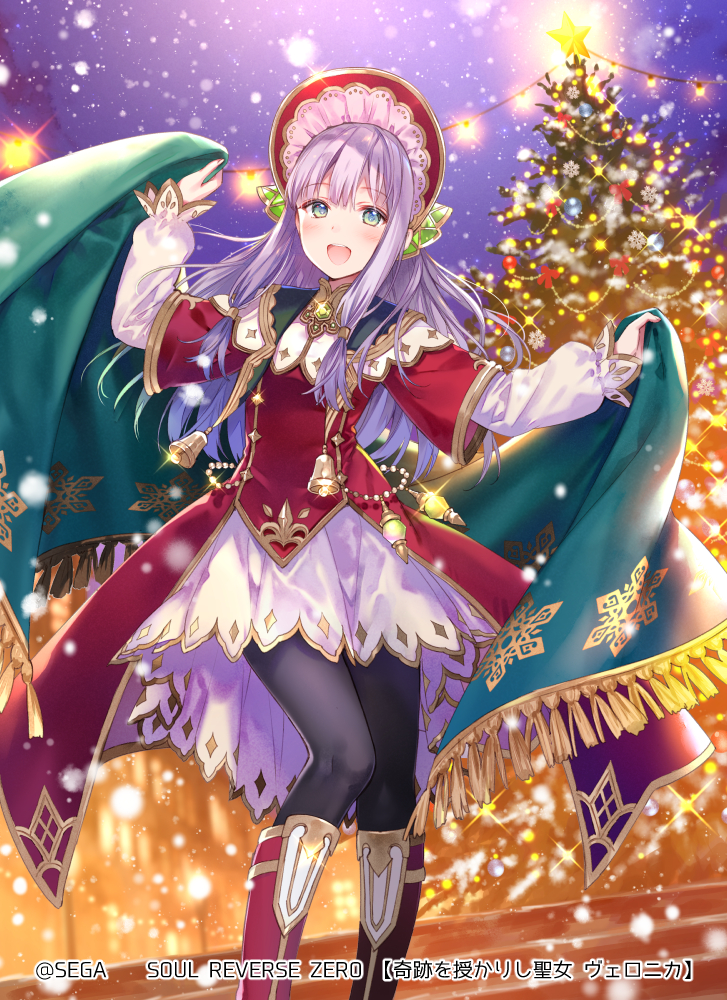纸片人正脸: (271, 87, 437, 288)
